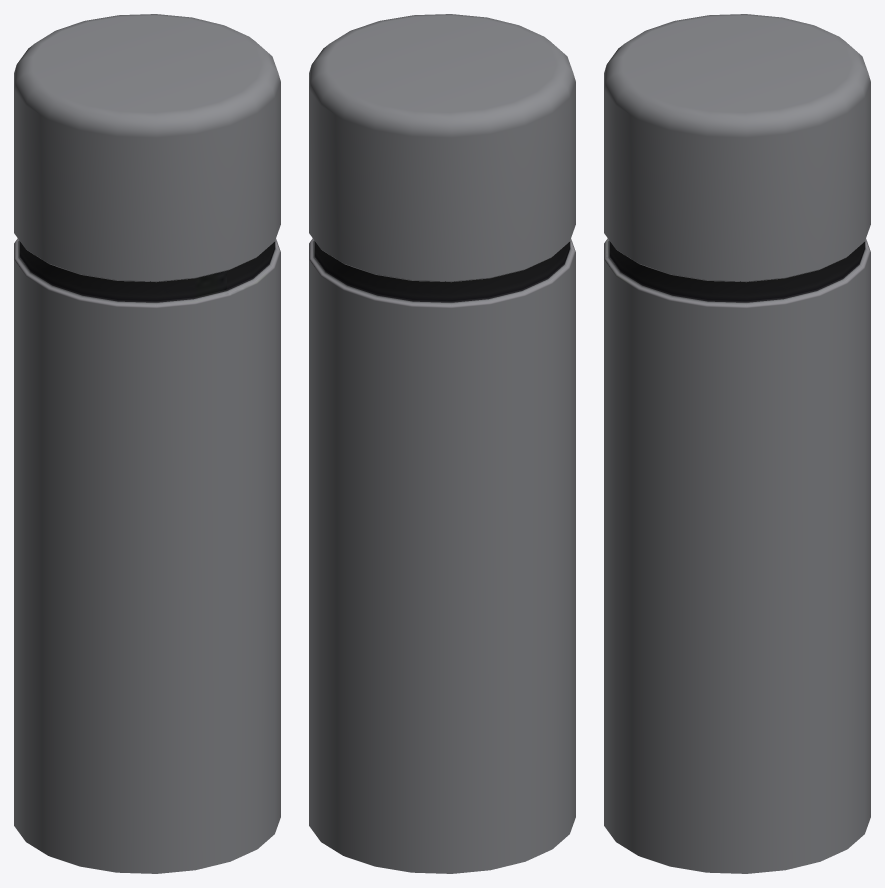
The model's file is bollard_steel_optimised.glb.
3 views of the same model, side by side, from view 1: azimuth 30°, elevation 25°; view 2: azimuth 150°, elevation 25°; view 3: azimuth 270°, elevation 25° (orthographic).
Parts seen in each view (by area): view 1: part0; view 2: part0; view 3: part0.
Part boxes in pixels (bbox=[...]): part0: bbox=[14, 14, 280, 873]; part0: bbox=[309, 14, 575, 873]; part0: bbox=[604, 14, 870, 873].
Size of the model in its own units: 0.3056 by 0.9498 by 0.3048.
1 material, 1 textured.
